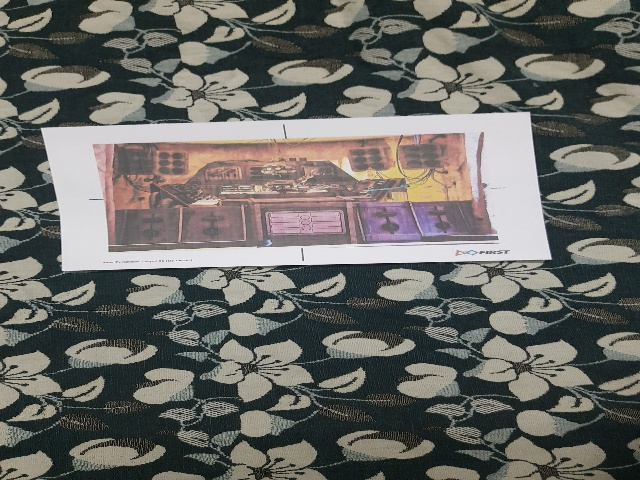rept1: (57, 129, 529, 251)
